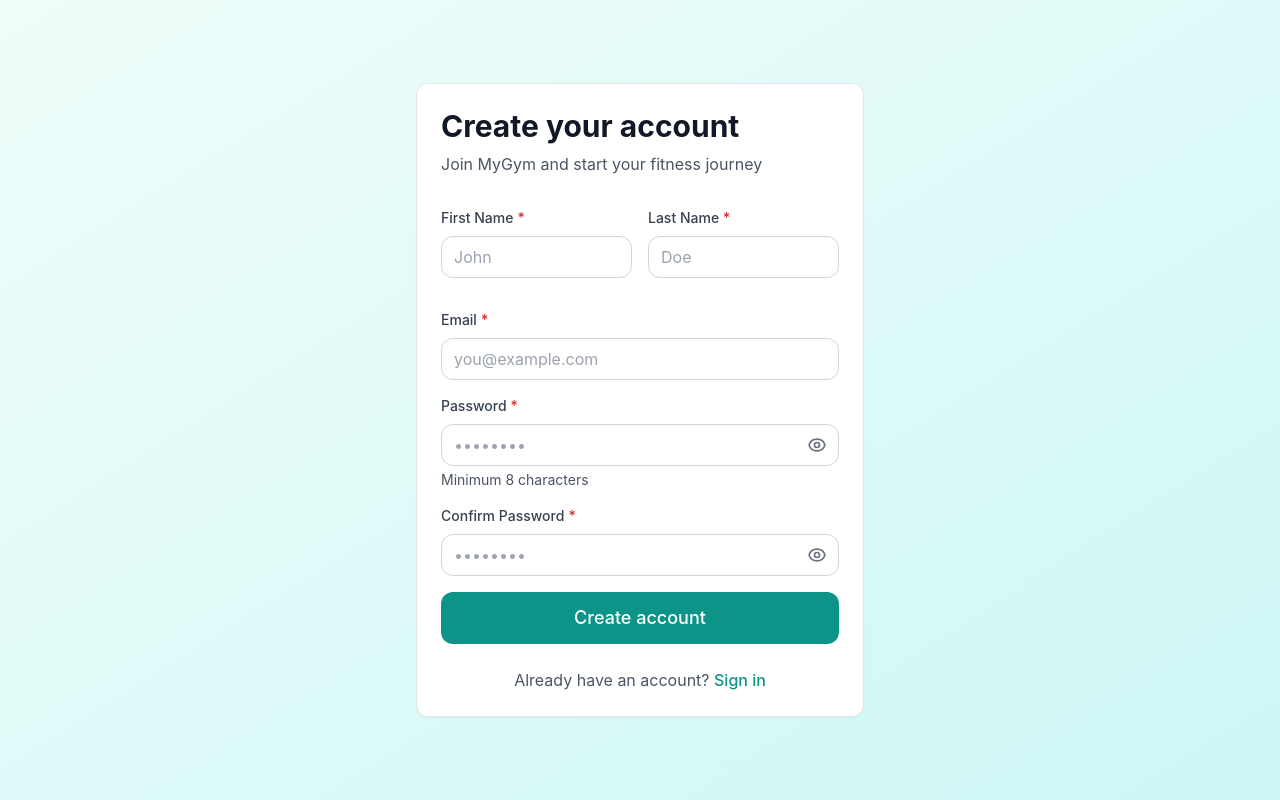
Test case: SignupPage › should display error on signup failure
Type "Jane" into the field with placeholder "John".
click(536, 257); type("Jane")  # box top-left (441, 236), bottom-right (632, 278)
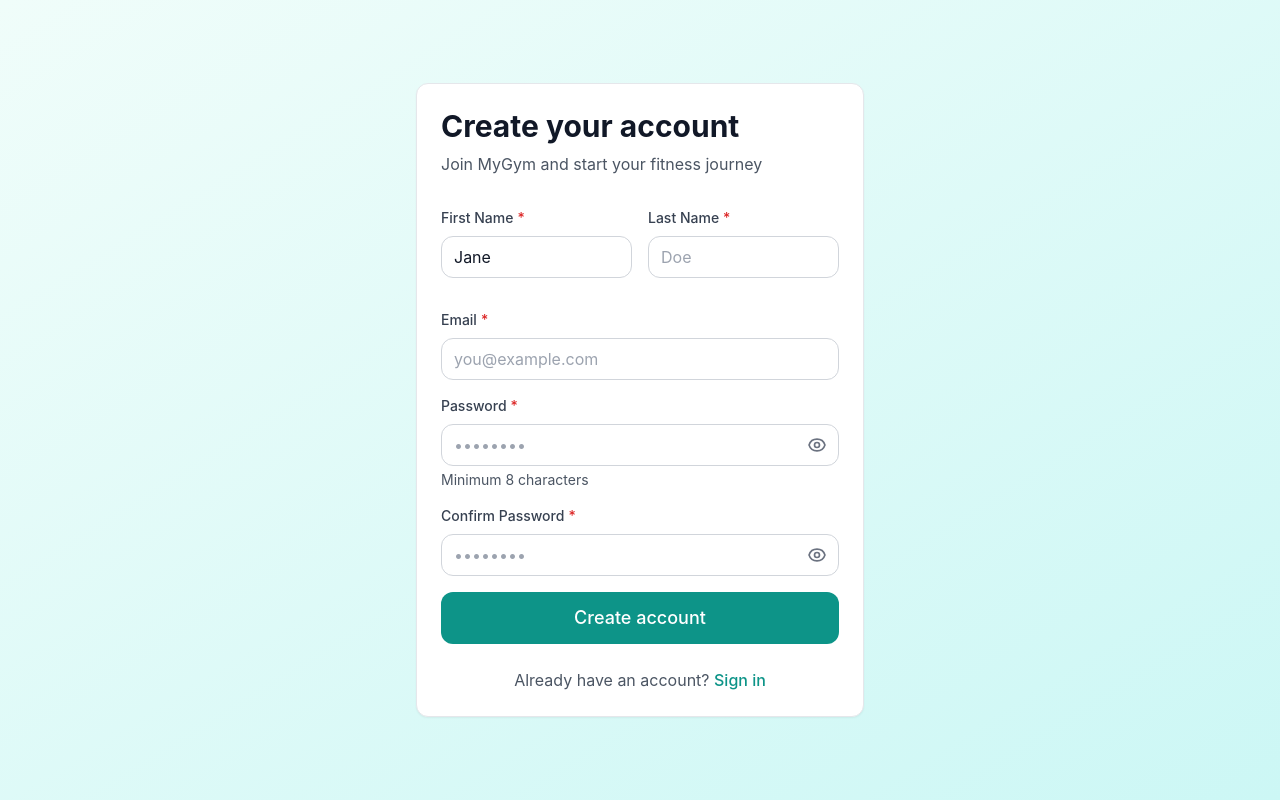
Type "Smith" into the field with placeholder "Doe".
click(744, 257); type("Smith")  # box top-left (648, 236), bottom-right (839, 278)
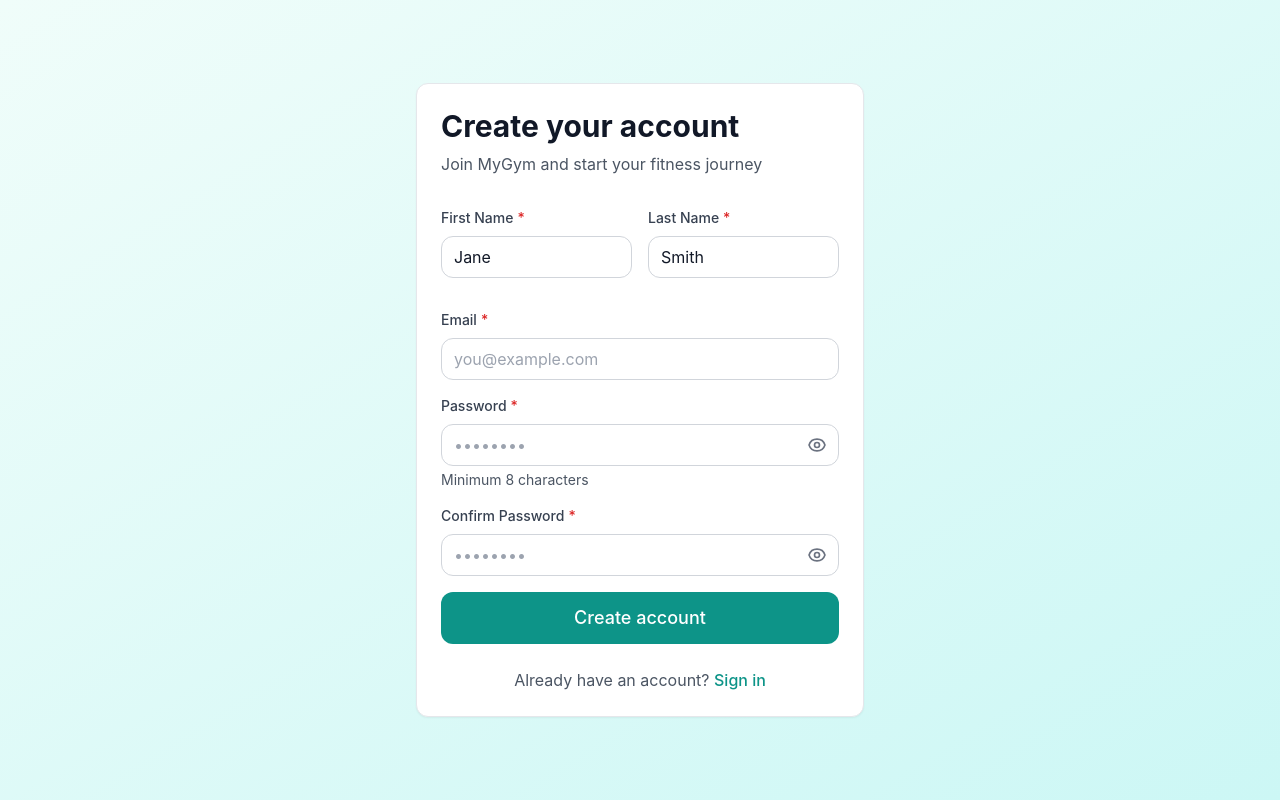
Type "existing@example.com" into the field with placeholder "you@example.com".
click(640, 359); type("existing@example.com")  # box top-left (441, 338), bottom-right (839, 380)
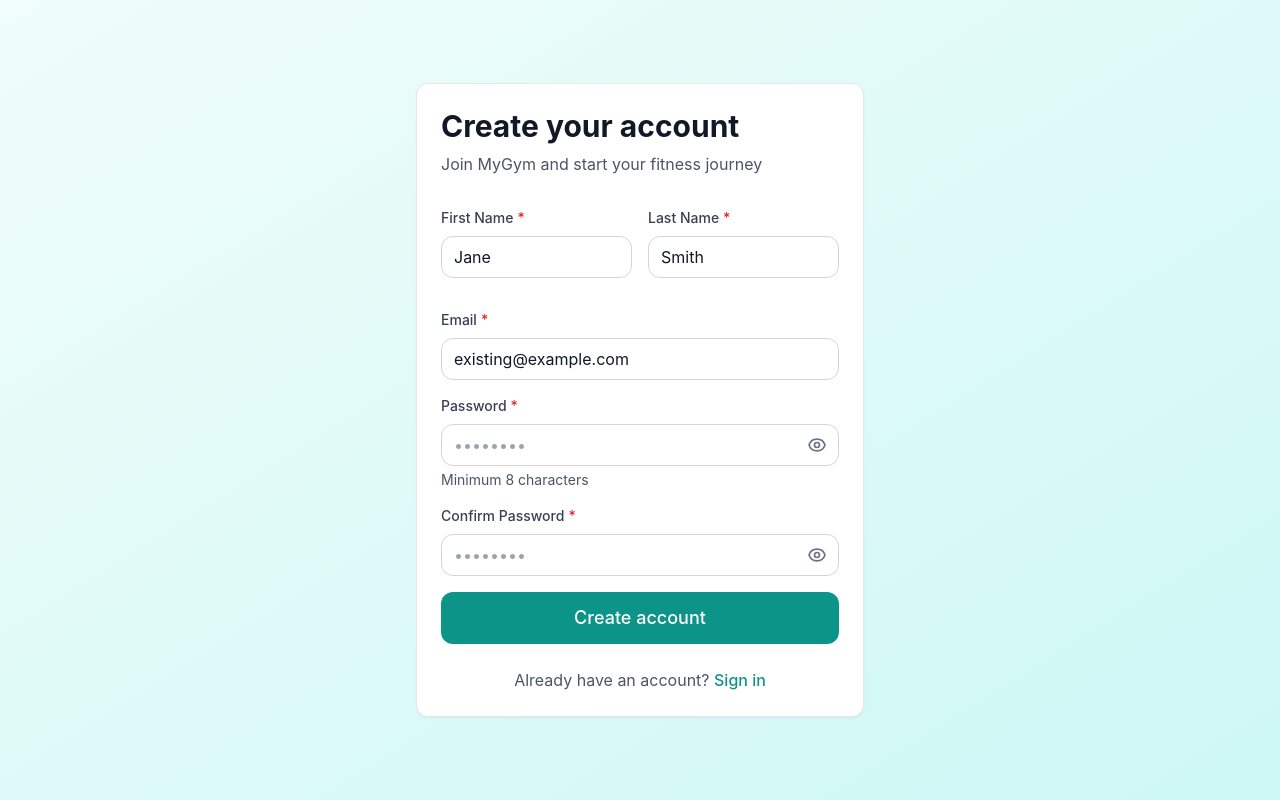
Type "password123" into the password field labelled "Password*".
click(640, 445); type("password123")  # box top-left (441, 424), bottom-right (839, 466)
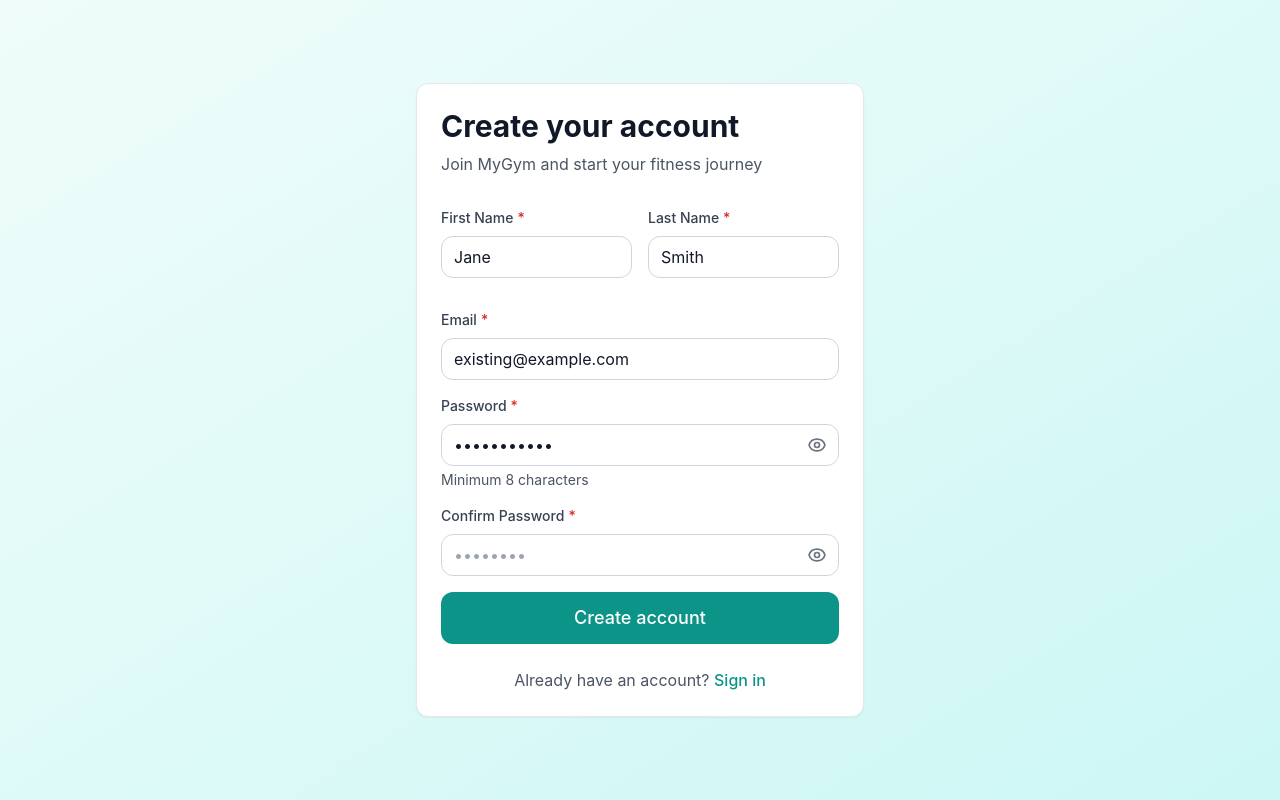
Type "password123" into the password field labelled "Confirm Password*".
click(640, 555); type("password123")  # box top-left (441, 534), bottom-right (839, 576)
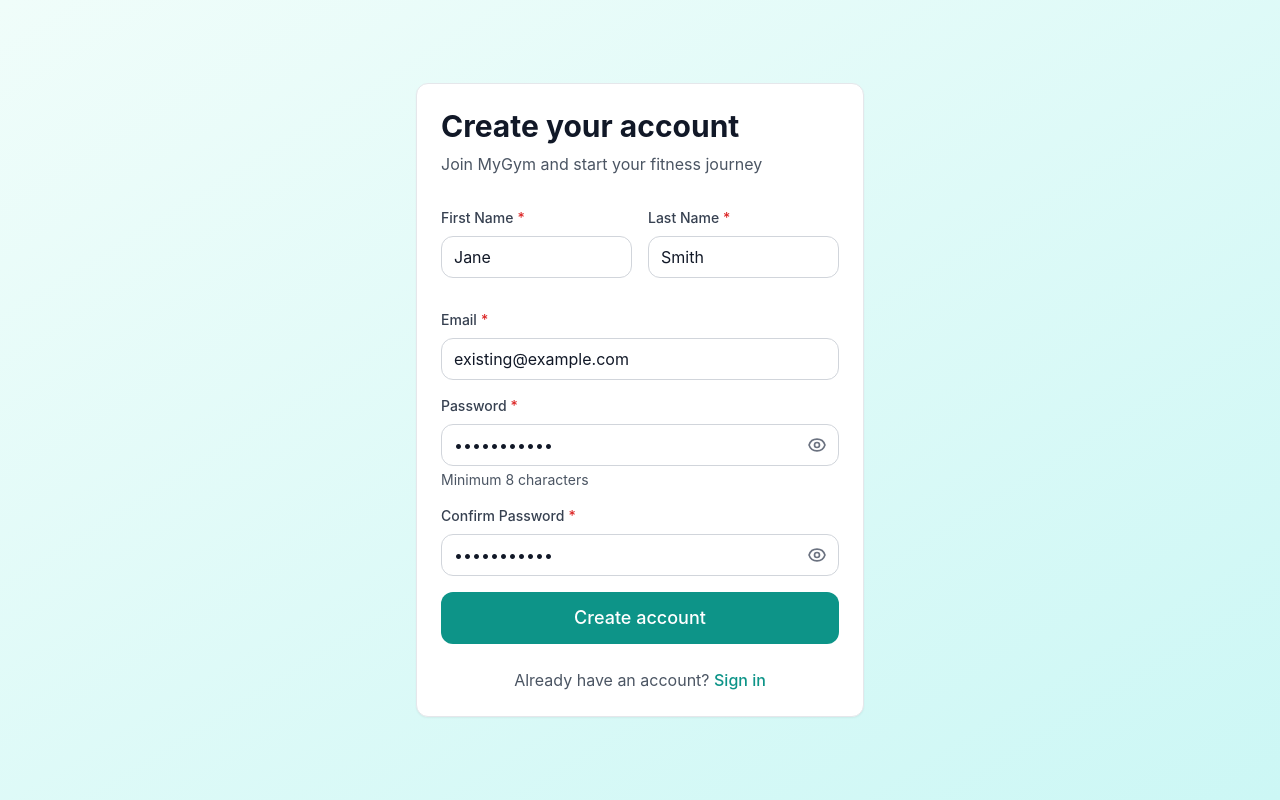
Click the button "Create account".
click(640, 618)  # box top-left (441, 592), bottom-right (839, 644)
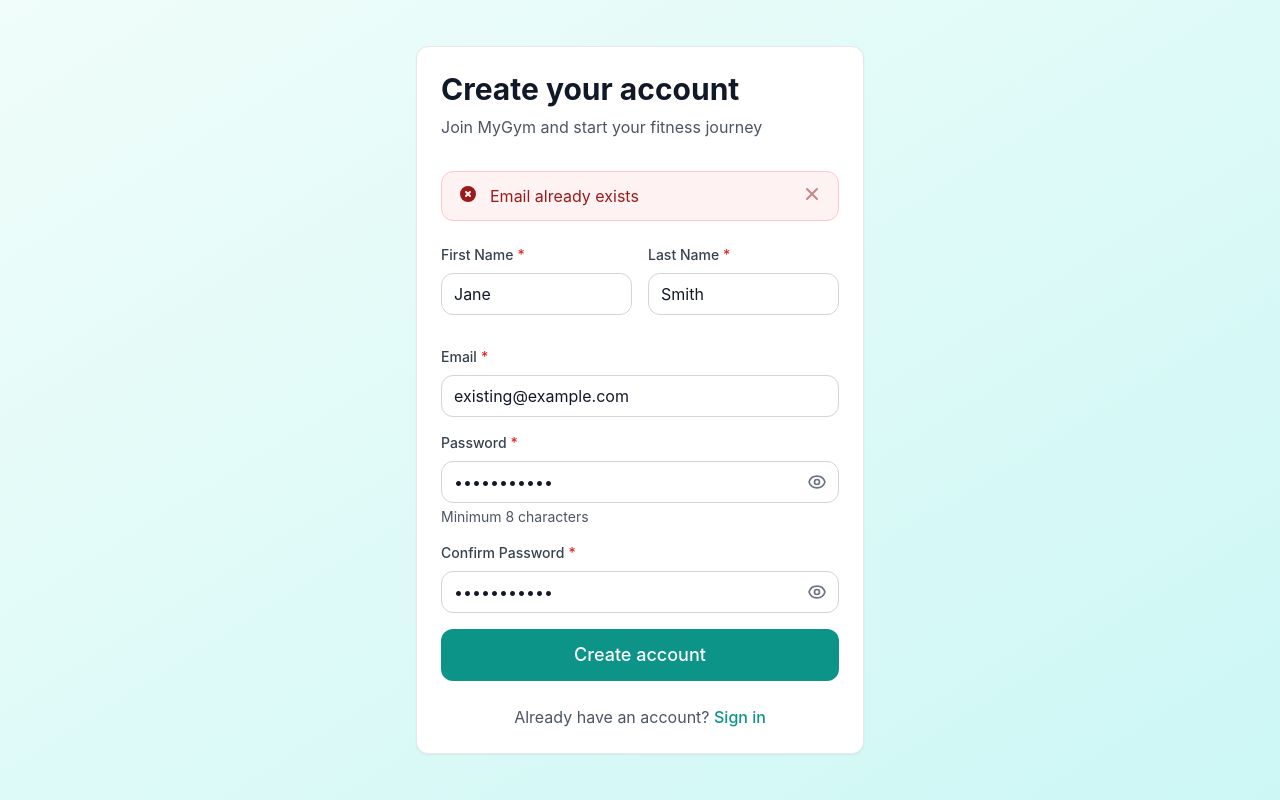
Expected: the text "Email already exists" is shown, top-left (490, 186), bottom-right (639, 206)
